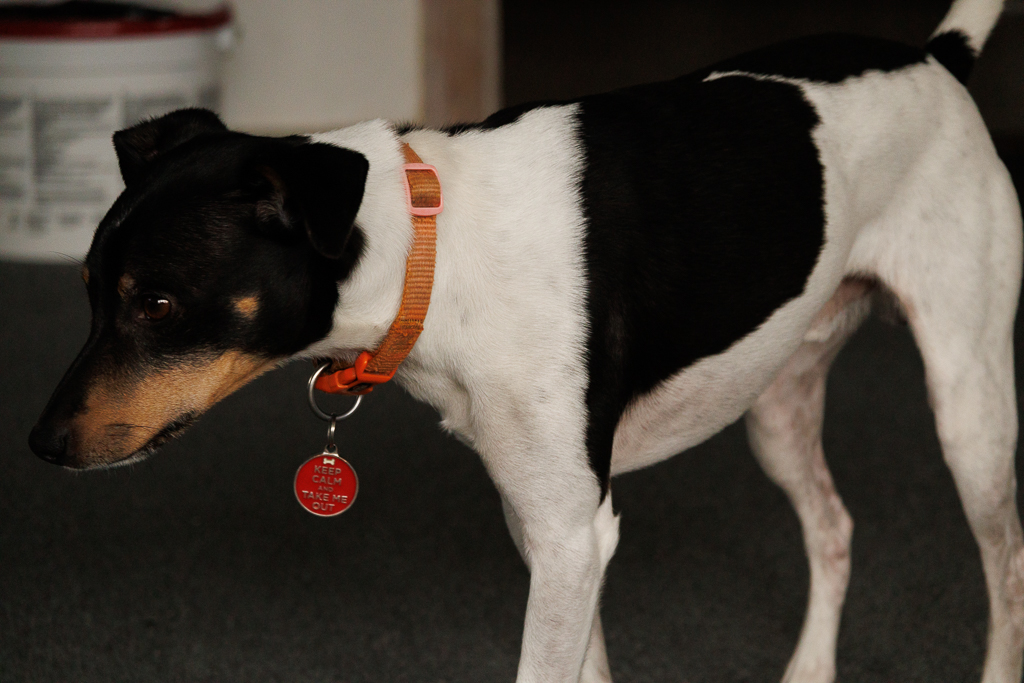Dog: (20, 0, 1024, 683)
